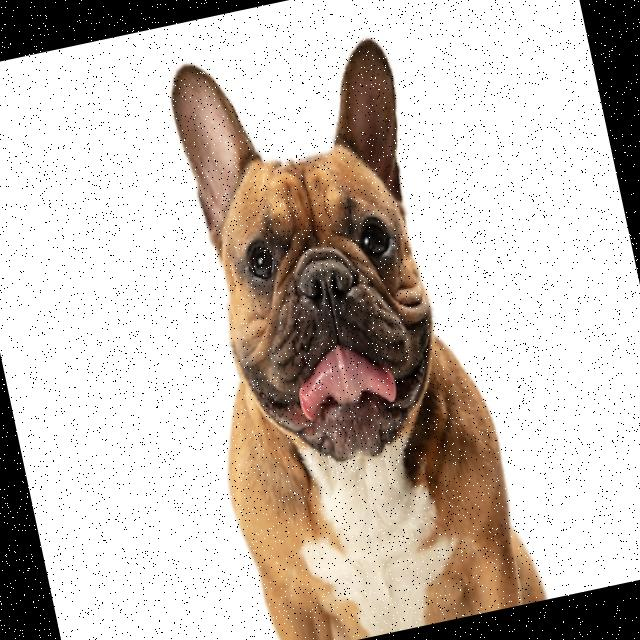Dog: (140, 14, 544, 640)
